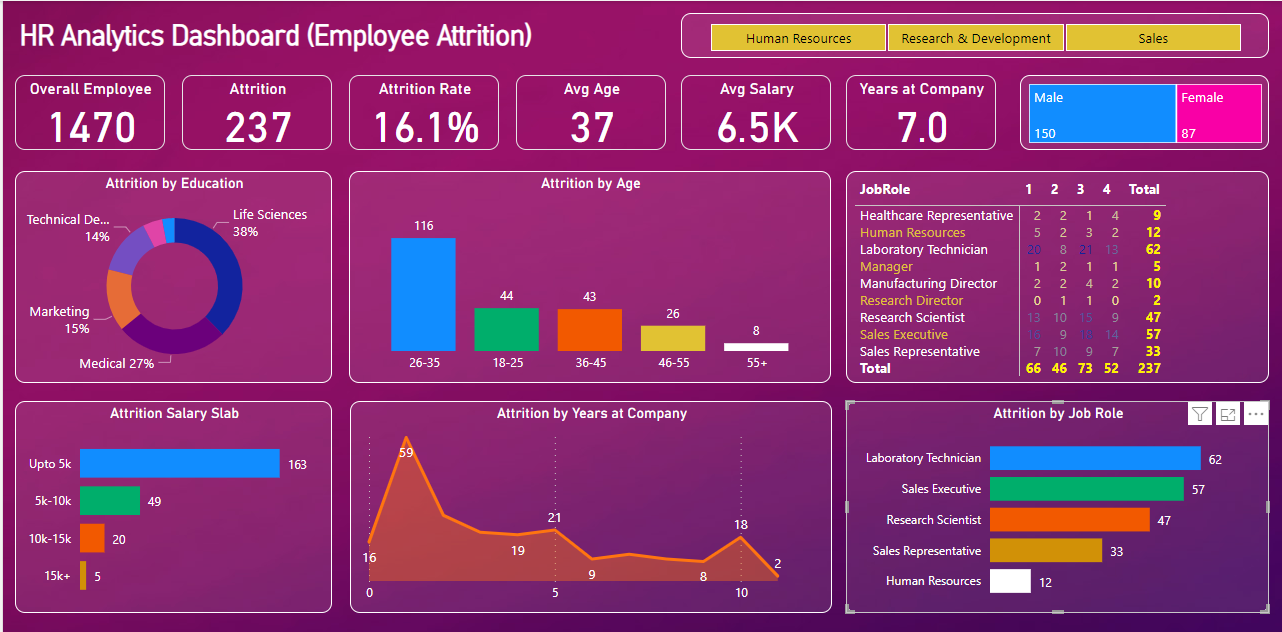

The dashboard page shown, as its layout file describes it:
{"tool":"powerbi","page":{"name":"Page 1","canvas":[1280,720],"ordinal":0},"visuals":[{"type":"card","title":"Count Of Employee","fields":{"Values":["CountNonNull(HR_Analytics.EmpID)"]},"box":[12,52,150,75],"z":0},{"type":"card","title":"Attrition","fields":{"Values":["Sum(HR_Analytics.AttritionCount)"]},"box":[179,52,150,75],"z":1},{"type":"card","title":"Attrition Rate","fields":{"Values":["HR_Analytics.AttritionRate"]},"box":[346,52,150,75],"z":2},{"type":"card","title":"Avg Age","fields":{"Values":["Avg(HR_Analytics.Age)"]},"box":[513,52,150,75],"z":3},{"type":"card","title":"Avg Salary","fields":{"Values":["Avg(HR_Analytics.MonthlyIncome)"]},"box":[678,52,150,75],"z":4},{"type":"card","title":"Avg Years","fields":{"Values":["Avg(HR_Analytics.YearsAtCompany)"]},"box":[843,52,150,75],"z":5},{"type":"donutChart","title":" Attrition by Education","fields":{"Category":["HR_Analytics.EducationField"],"Y":["Sum(HR_Analytics.AttritionCount)"]},"box":[12,148,317,212],"z":6},{"type":"columnChart","title":" Attrition by Age","fields":{"Category":["HR_Analytics.AgeGroup"],"Y":["Sum(HR_Analytics.AttritionCount)"]},"box":[346,148,482,212],"z":7},{"type":"pivotTable","fields":{"Rows":["HR_Analytics.JobRole"],"Columns":["HR_Analytics.JobSatisfaction"],"Values":["Sum(HR_Analytics.AttritionCount)"]},"box":[843,148,423,212],"z":8}]}

Visuals, with their boxes on the page's 1280x720 design canvas (x1, y1, x2, y2). These are canvas units, not pixel positions in the 1282x632 screenshot, which may show the page scaled, cropped or inside an application window:
"Count Of Employee" card: 12:52:162:127
"Attrition" card: 179:52:329:127
"Attrition Rate" card: 346:52:496:127
"Avg Age" card: 513:52:663:127
"Avg Salary" card: 678:52:828:127
"Avg Years" card: 843:52:993:127
" Attrition by Education" donutChart: 12:148:329:360
" Attrition by Age" columnChart: 346:148:828:360
pivotTable - HR_Analytics.JobRole x HR_Analytics.JobSatisfaction: 843:148:1266:360
